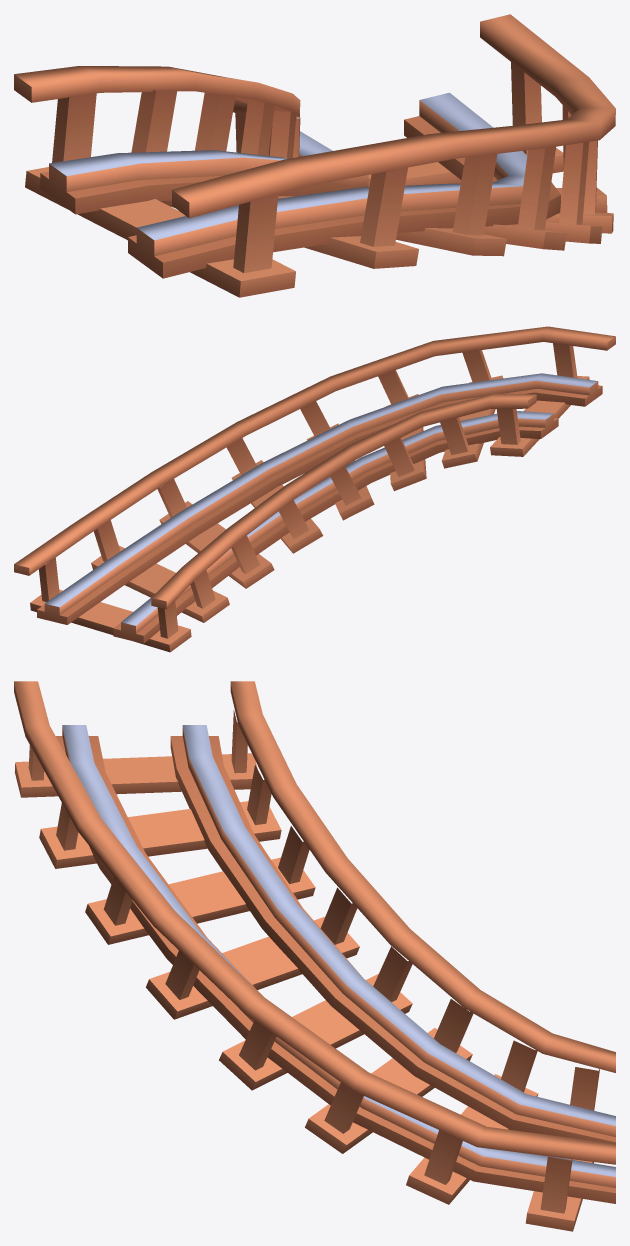
The model's file is kenney-coaster-coaster-wood-corner-small-ramp.glb.
3 views of the same model, one above another, from view 1: azimuth 30°, elevation 25°; view 2: azimuth 150°, elevation 25°; view 3: azimuth 270°, elevation 25° (orthographic). The views are drawn at different scales.
Visible parts, largest first — view 1: coaster-wood-corner-small-ramp; view 2: coaster-wood-corner-small-ramp; view 3: coaster-wood-corner-small-ramp.
Boxes of the visible parts, x1,y1,x2,y2 form: coaster-wood-corner-small-ramp: (14,14,615,297); coaster-wood-corner-small-ramp: (14,326,615,652); coaster-wood-corner-small-ramp: (14,681,615,1231).
Size of the model in its own units: 2.5 by 1.36 by 2.5.
1 material, 1 textured.
